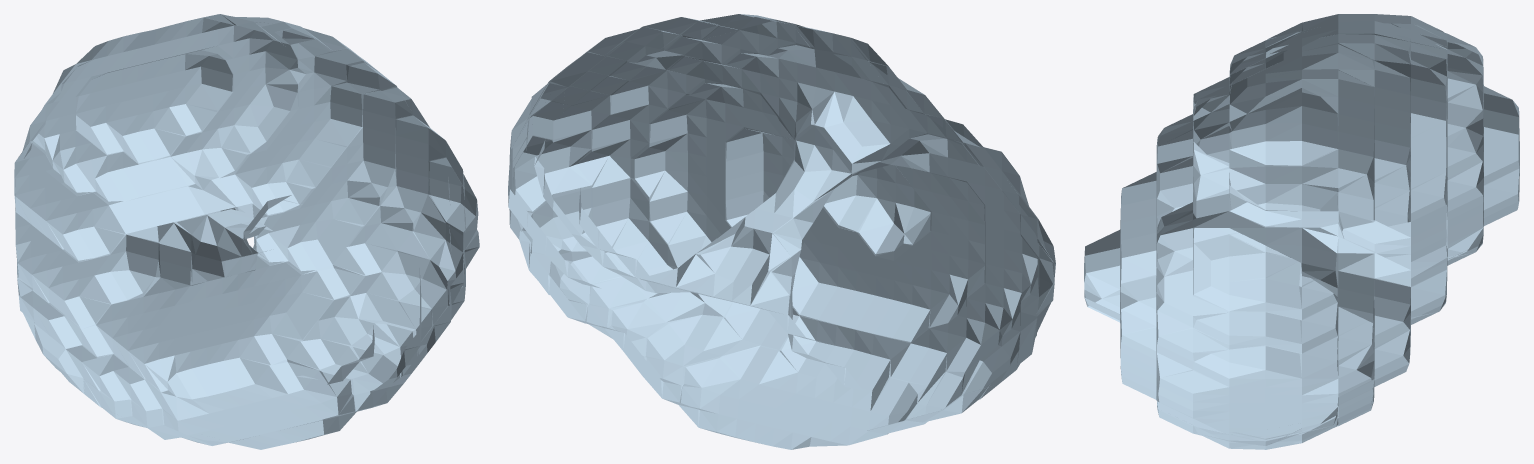
The model's file is VFB_00102135.glb.
3 views of the same model, side by side, from view 1: azimuth 30°, elevation 25°; view 2: azimuth 150°, elevation 25°; view 3: azimuth 270°, elevation 25° (orthographic). The views are drawn at different scales.
Visible parts, largest first — view 1: VFB_00102135; view 2: VFB_00102135; view 3: VFB_00102135.
Part boxes in pixels (left/top/right/bottom): VFB_00102135: left=14, top=14, right=479, bottom=449; VFB_00102135: left=508, top=14, right=1055, bottom=449; VFB_00102135: left=1084, top=14, right=1519, bottom=449.
Size of the model in its own units: 0.0581 by 0.0437 by 0.0471.
